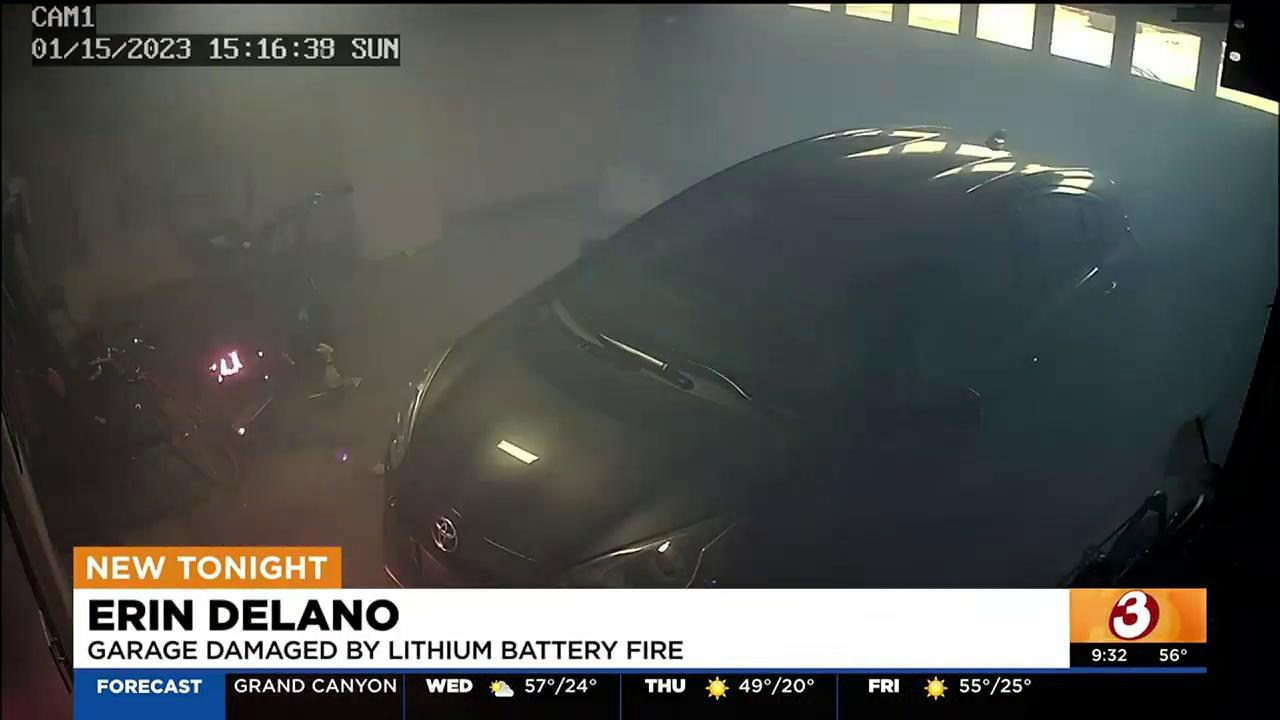fire: (128, 72, 1152, 648), (128, 308, 319, 428)
